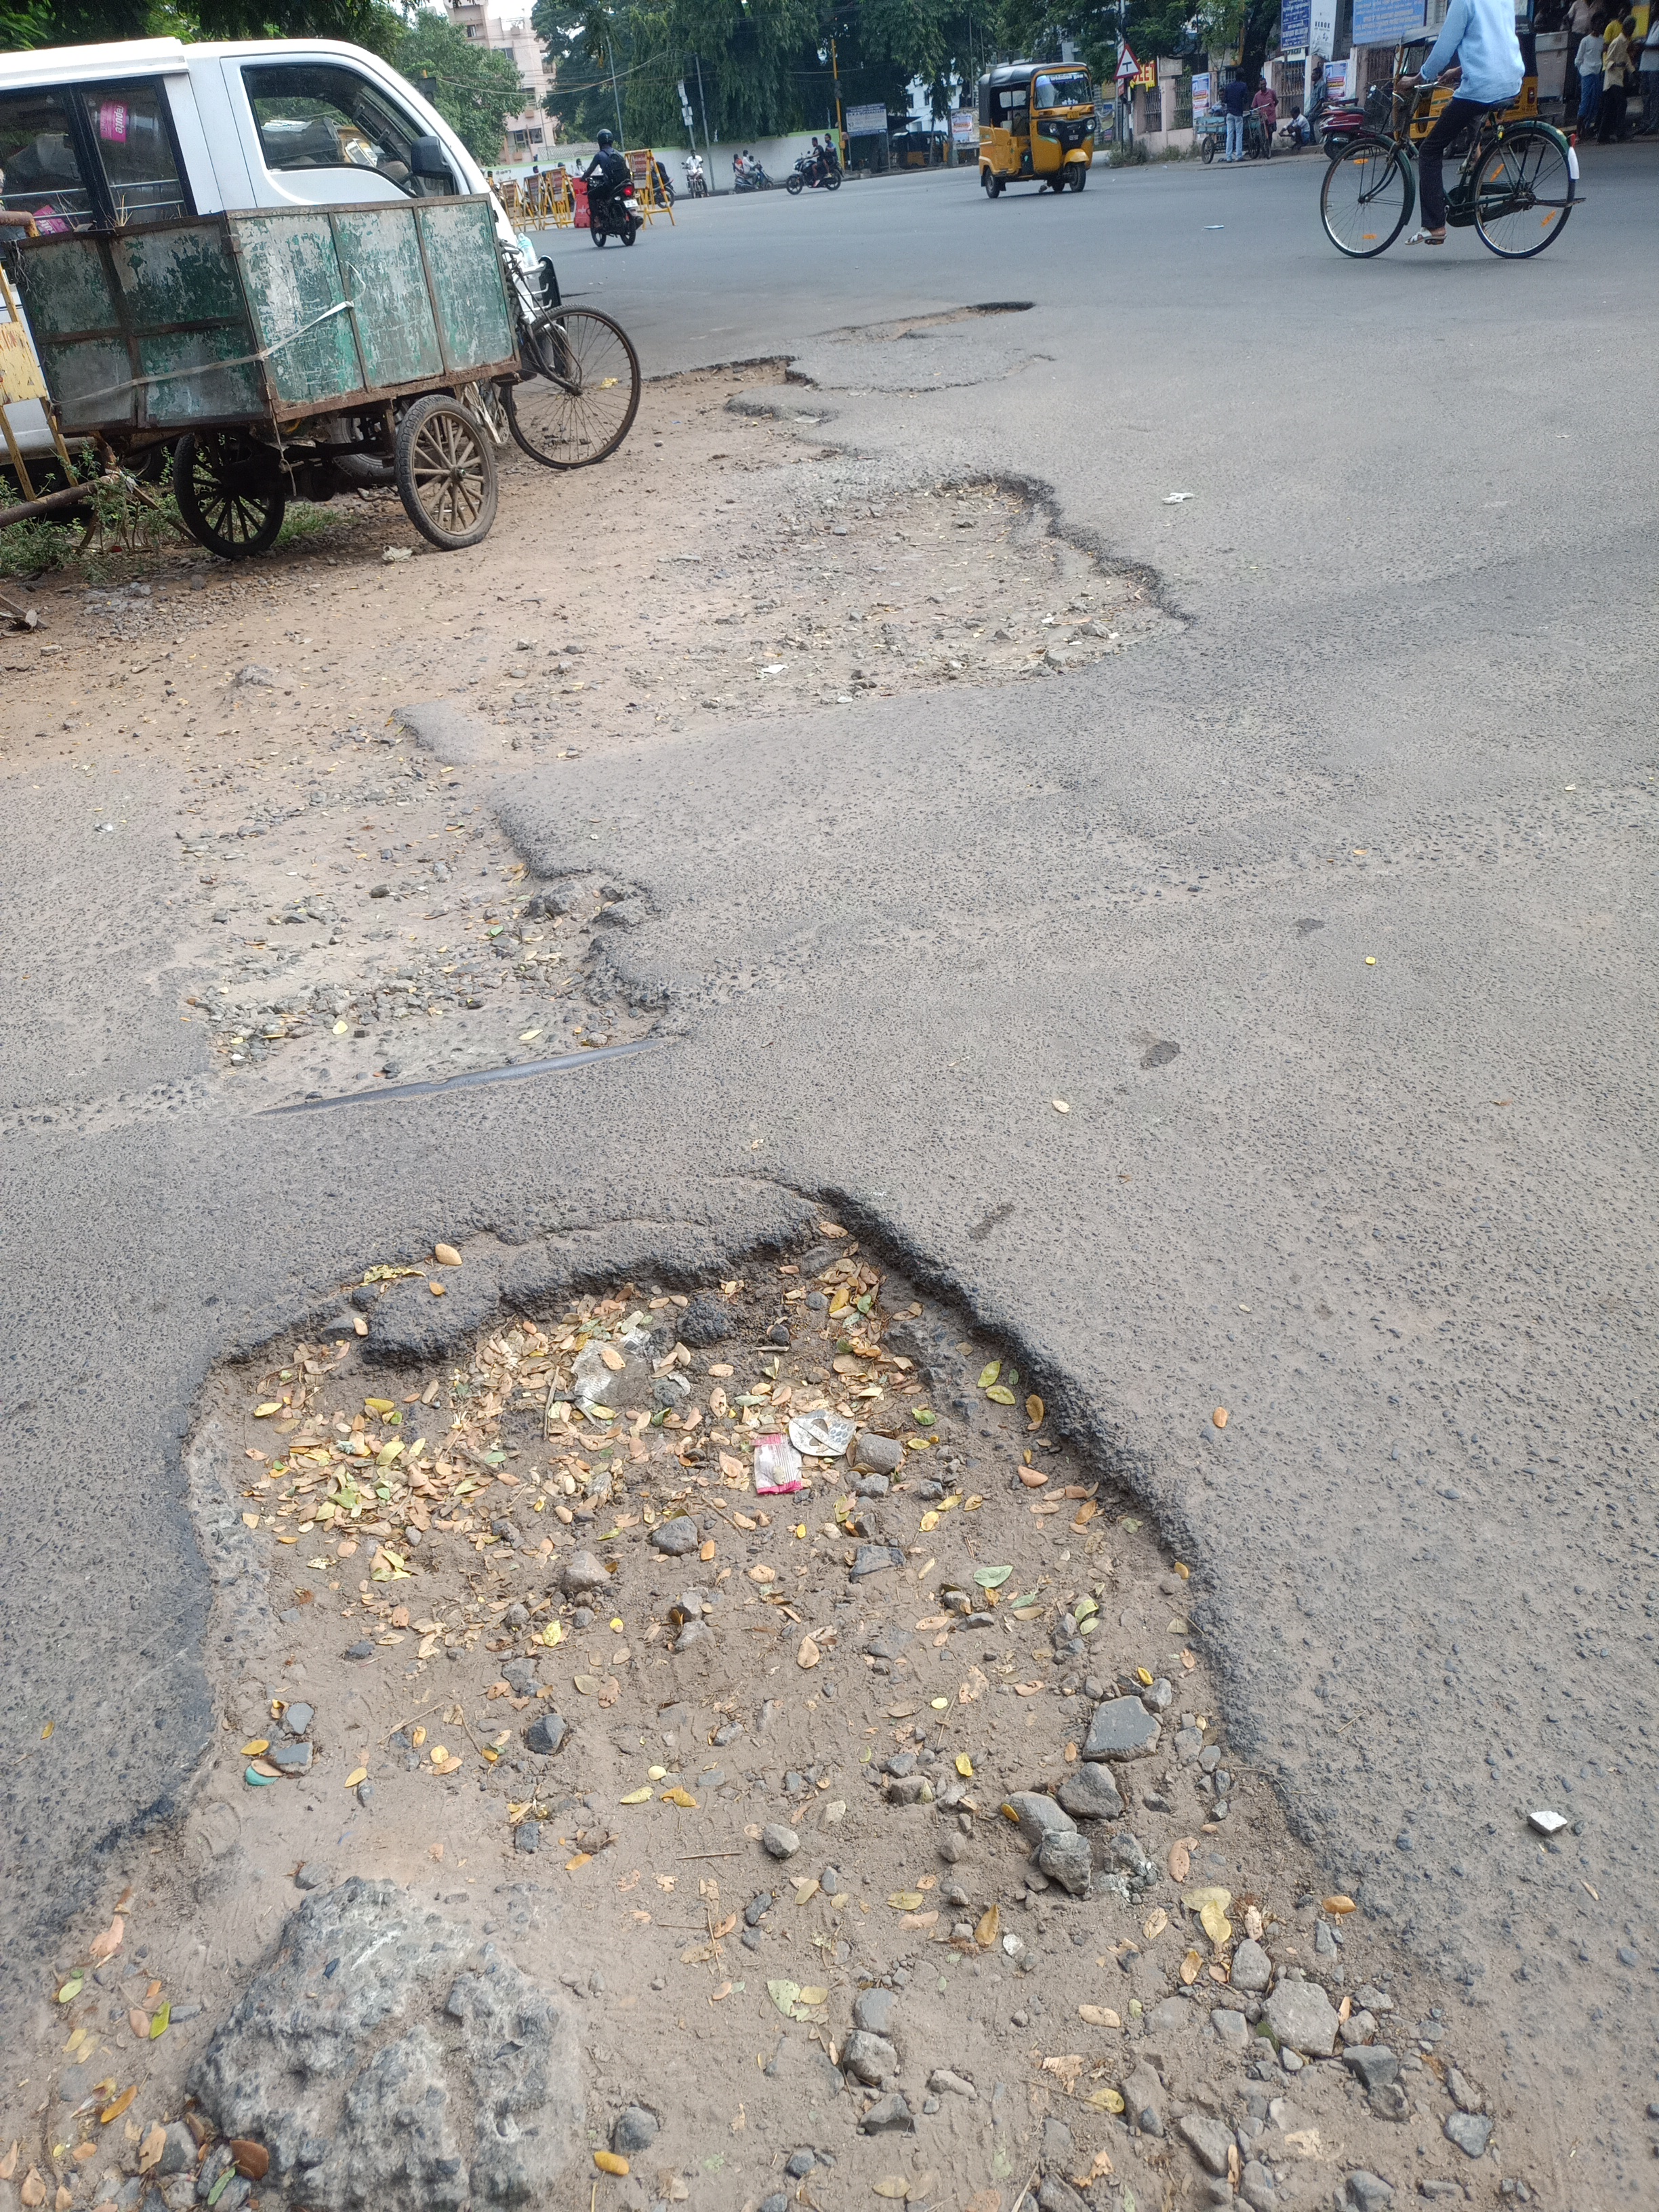potholes: (1, 1161, 1509, 2212), (39, 465, 1216, 1093)
